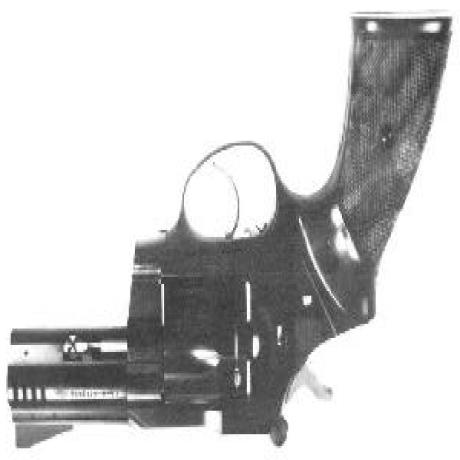weapon: (0, 16, 456, 453)
